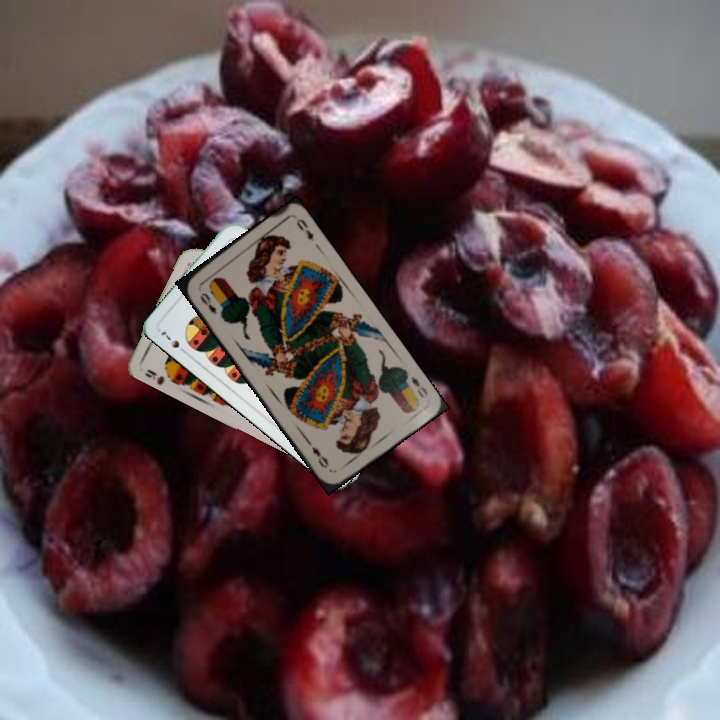EO: (196, 289, 219, 317), (407, 372, 430, 400)
S7: (157, 327, 190, 357)
S9: (141, 365, 178, 386)
